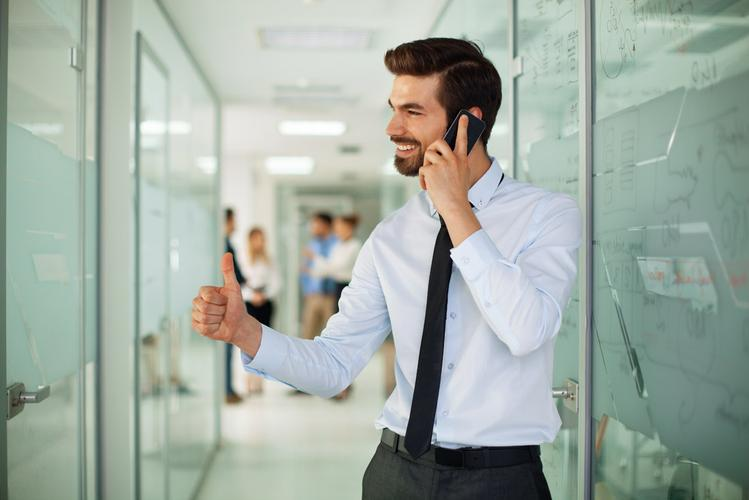calling: (416, 108, 487, 205)
no-phone: (187, 251, 254, 350)
